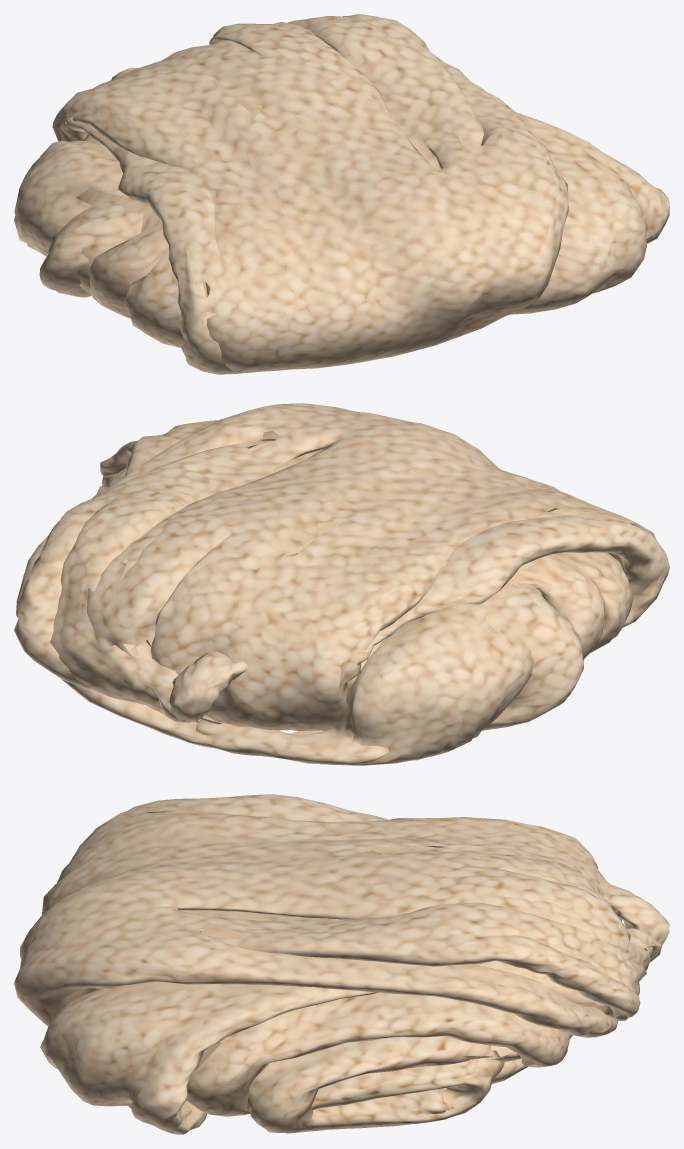
The model's file is desktop.glb.
3 renders of one model, top to bottom at view 1: azimuth 30°, elevation 25°; view 2: azimuth 150°, elevation 25°; view 3: azimuth 270°, elevation 25°, orthographic. The views are drawn at different scales.
Visible parts, largest first — view 1: throwblanket; view 2: throwblanket; view 3: throwblanket.
Boxes of the visible parts, left/top/right/bottom form: throwblanket: left=14, top=14, right=669, bottom=374; throwblanket: left=14, top=403, right=669, bottom=765; throwblanket: left=14, top=794, right=669, bottom=1134.
Bounding box in the file's own units: 0.5999 × 0.1702 × 0.6005.
1 material, 1 textured.
